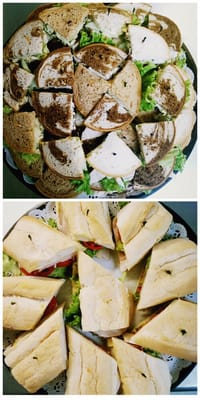soup: (3, 214, 80, 278), (113, 201, 174, 273)
